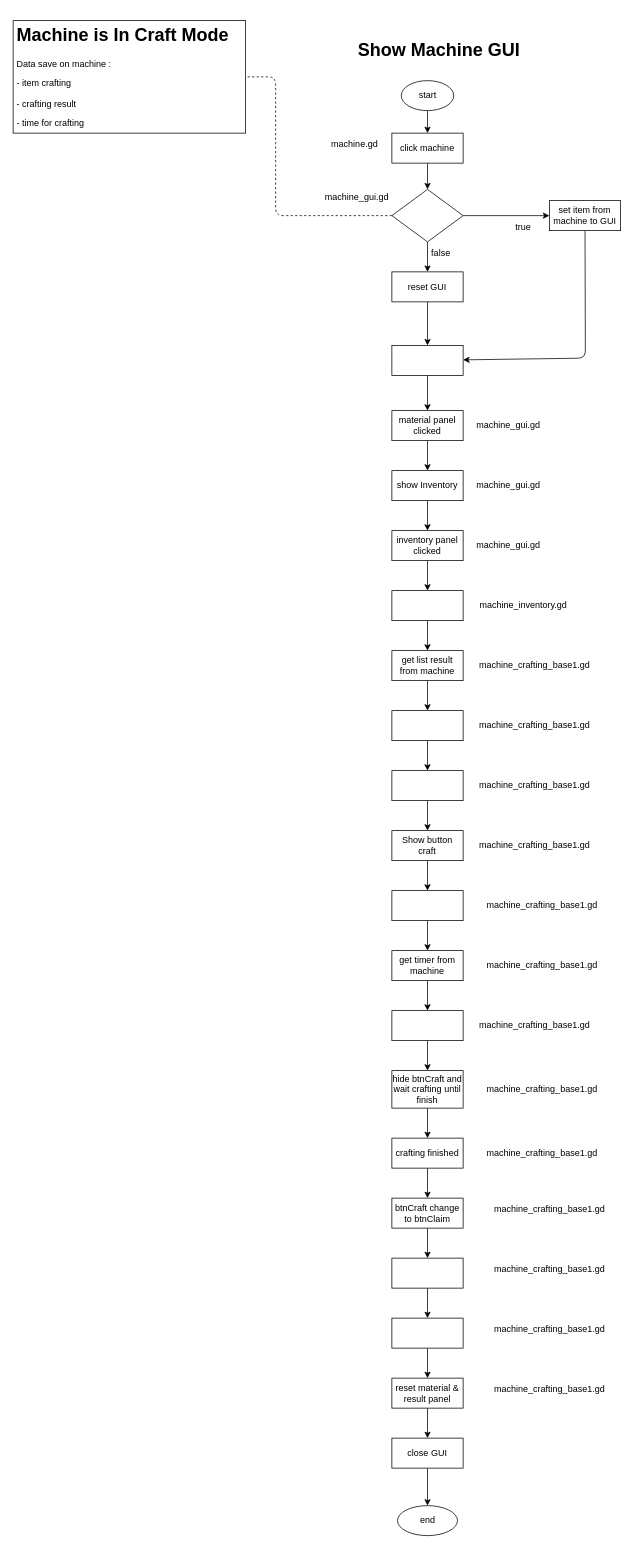
The diagram is 634 pixels wide and 1549 high, and some of its shapes have lost their labels. Here are the shapes that lost their labels. From the top down, the centre of each, then its label:
At pixel 427 215: "machine is in_craft".
At pixel 427 360: "show GUI".
At pixel 427 605: "send item from inventory to GUI".
At pixel 427 725: "Machine send result to GUI".
At pixel 427 785: "GUI set result".
At pixel 427 905: "btnCraft clicked".
At pixel 427 1025: "set timer and progress bar".
At pixel 427 1272: "Claim item".
At pixel 427 1332: "Save to Player's Inventory".
